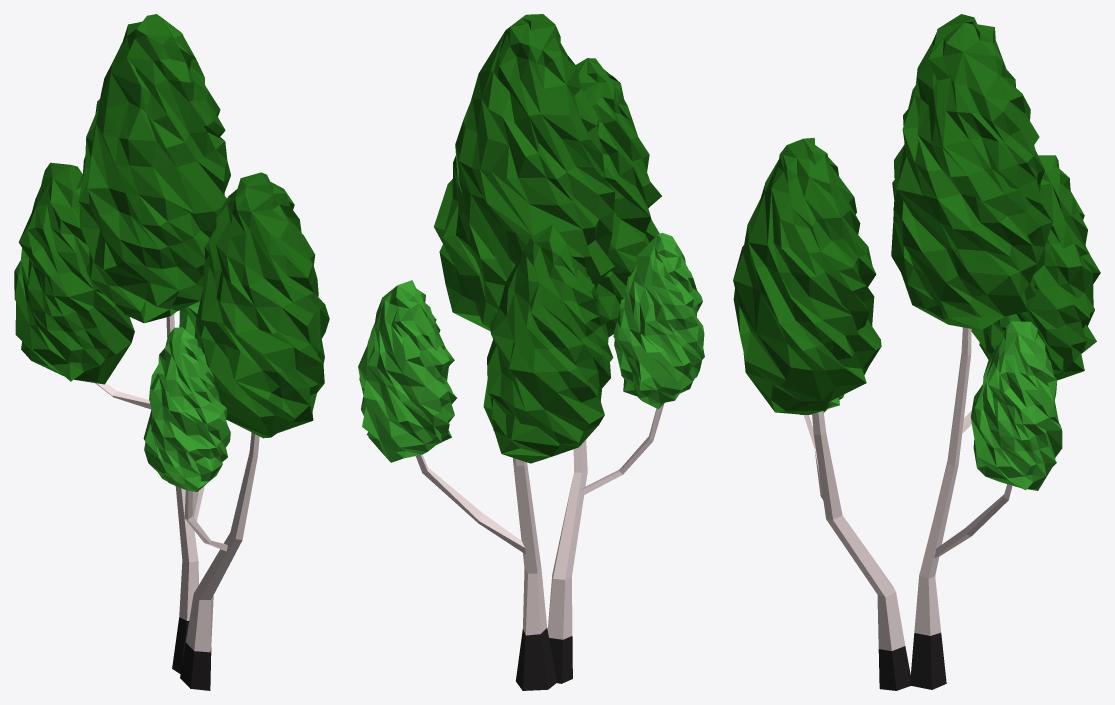
File: BirchTreeBlackTrunk_001.FBX
3 renders of one model, left to right at view 1: azimuth 30°, elevation 25°; view 2: azimuth 150°, elevation 25°; view 3: azimuth 270°, elevation 25°, orthographic. The views are drawn at different scales.
Visible parts, largest first — view 1: GeoSphere006, GeoSphere003, GeoSphere008, GeoSphere004, Trunk002, Trunk001, Cylinder002; view 2: GeoSphere006, GeoSphere008, GeoSphere005, GeoSphere004, GeoSphere003, Trunk001, Trunk002, Cylinder001, Cylinder002; view 3: GeoSphere006, GeoSphere003, GeoSphere005, GeoSphere008, Trunk001, Trunk002, Cylinder001.
Part boxes in pixels (x1,y1,x2,y2): GeoSphere006: [78, 14, 230, 323]; GeoSphere003: [195, 172, 329, 438]; GeoSphere008: [14, 162, 134, 384]; GeoSphere004: [143, 327, 230, 491]; Trunk002: [180, 432, 259, 690]; Trunk001: [166, 314, 198, 673]; Cylinder002: [184, 490, 227, 551]; GeoSphere006: [434, 14, 614, 331]; GeoSphere008: [483, 224, 613, 463]; GeoSphere005: [358, 280, 456, 462]; GeoSphere004: [613, 233, 704, 408]; GeoSphere003: [576, 58, 661, 337]; Trunk001: [513, 458, 556, 690]; Trunk002: [547, 439, 587, 683]; Cylinder001: [415, 454, 525, 554]; Cylinder002: [579, 404, 663, 496]; GeoSphere006: [891, 14, 1052, 330]; GeoSphere003: [733, 137, 881, 414]; GeoSphere005: [970, 321, 1062, 490]; GeoSphere008: [971, 155, 1100, 380]; Trunk001: [910, 327, 971, 689]; Trunk002: [812, 411, 910, 690]; Cylinder001: [934, 484, 1012, 557].
Bounding box in the file's own units: 30.64 × 82.43 × 41.43.
